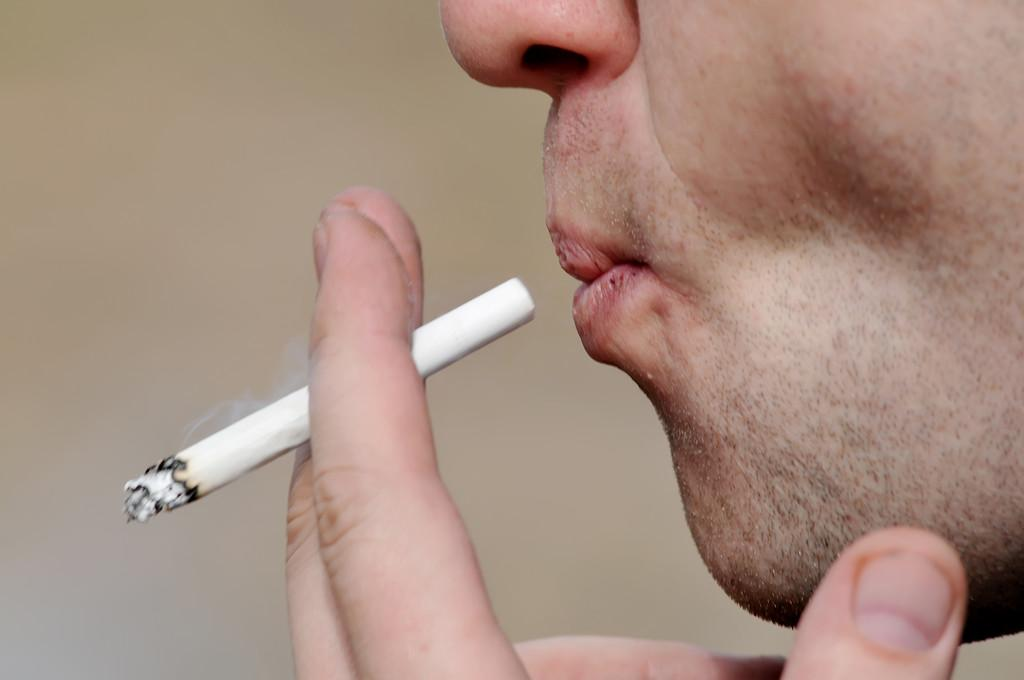smoke: (124, 278, 533, 524)
